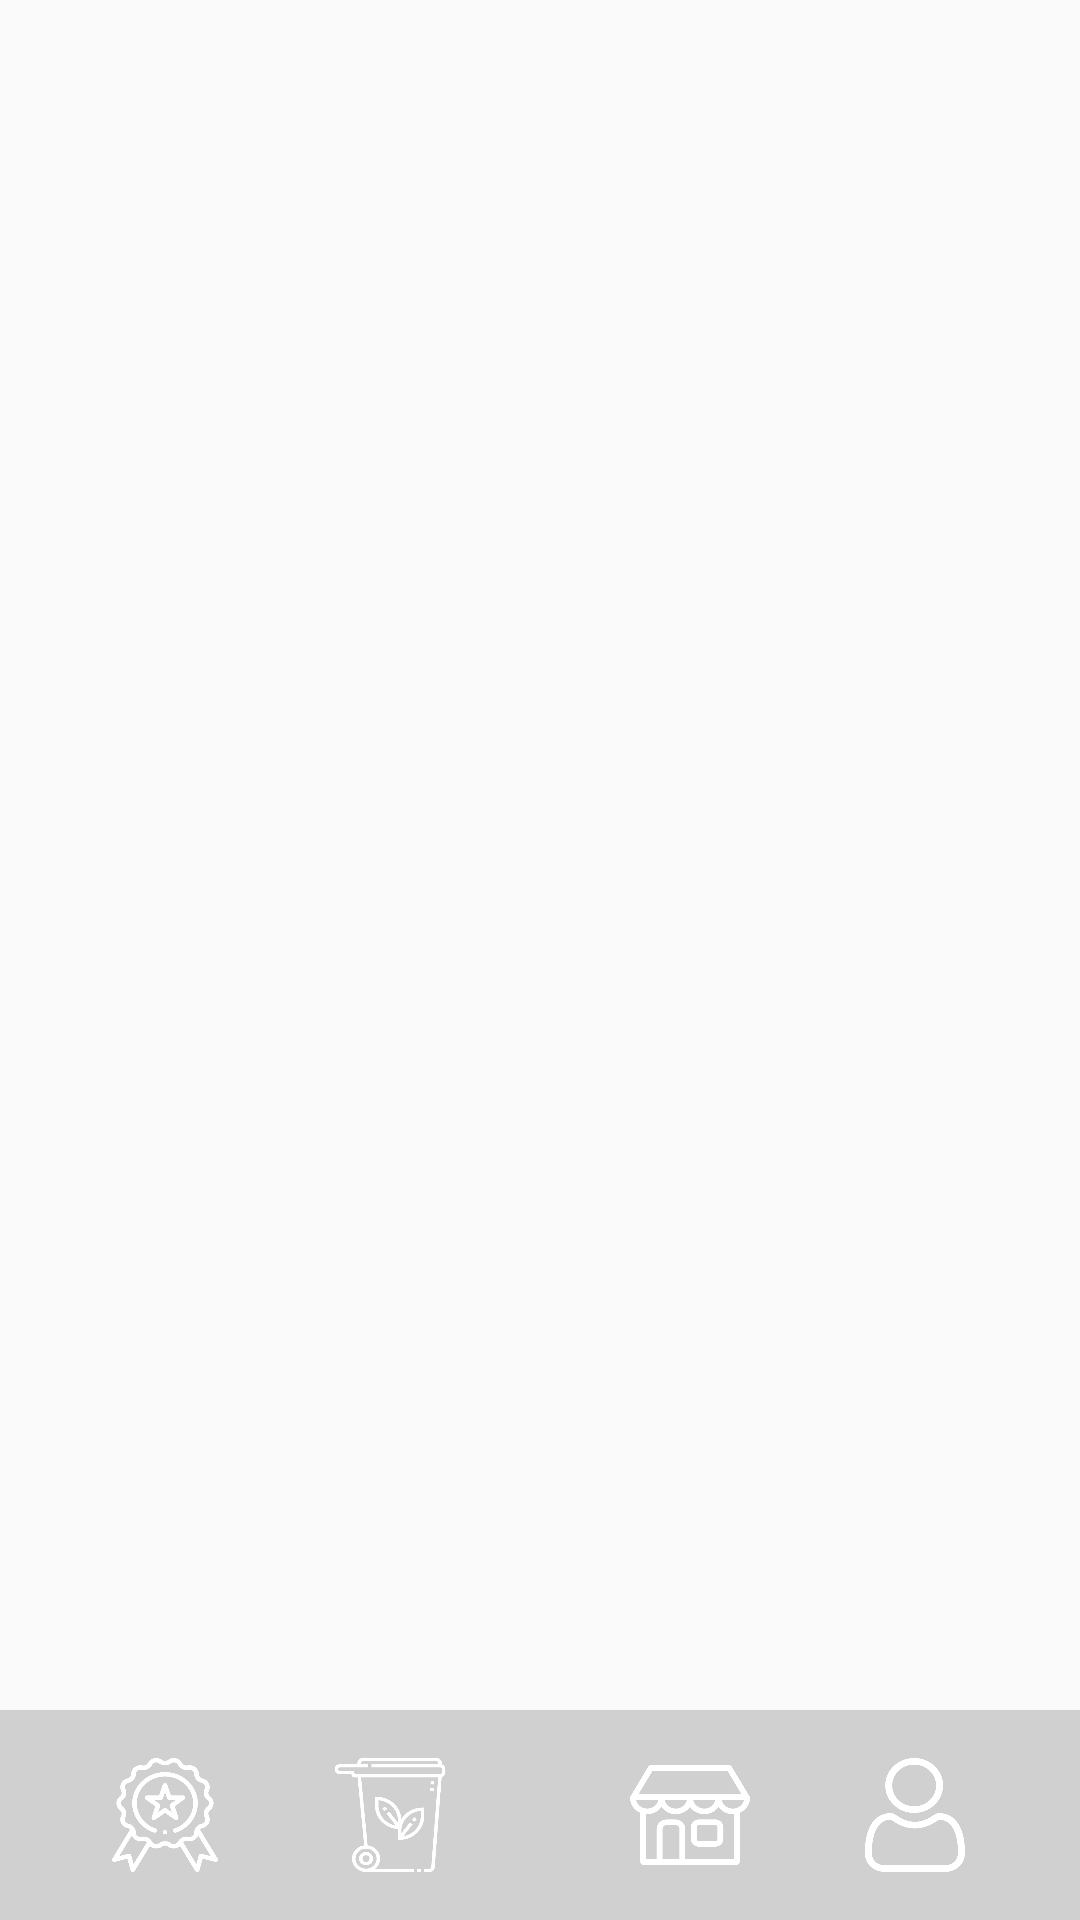

Where to tap for icons on this 1080×1920 app screen, as [x,y]:
no rank: [165,1815]
no shop: [690,1815]
no trash: [390,1815]
no user: [915,1815]
